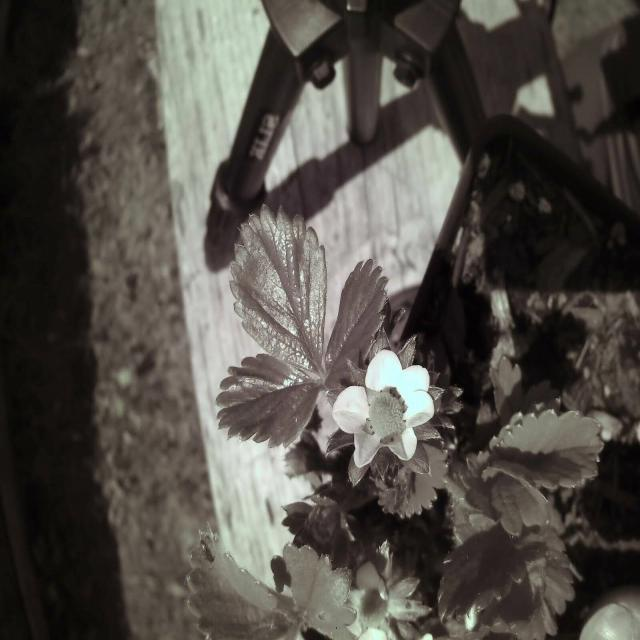flower: (331, 342, 440, 474)
